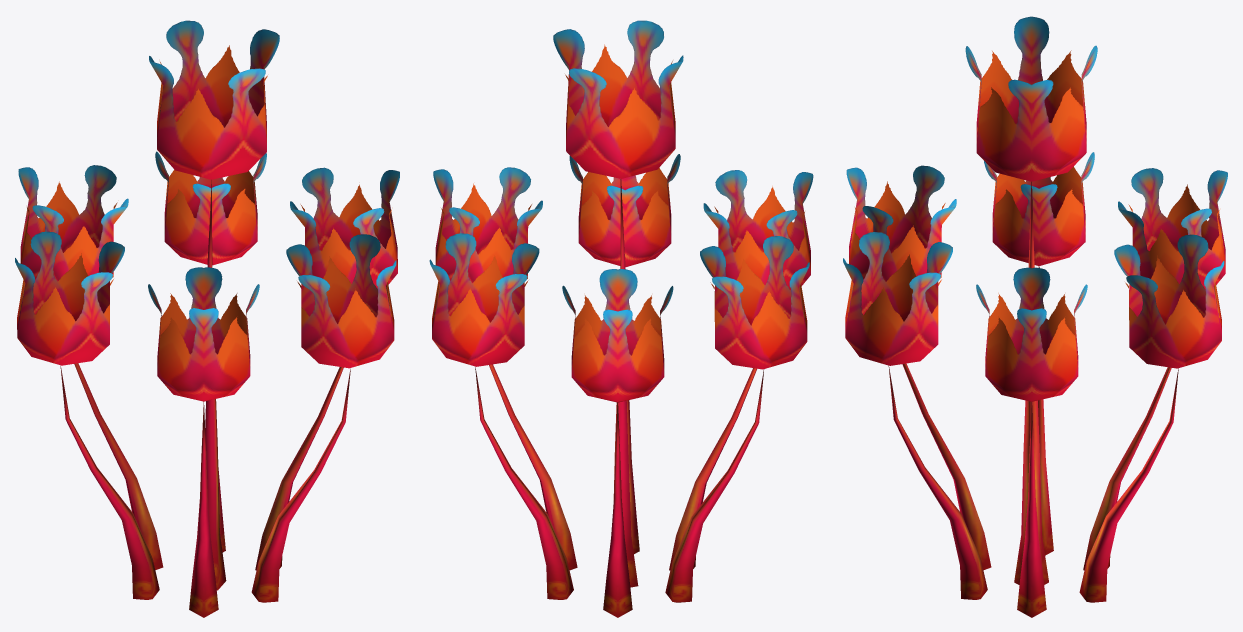
The model's file is RedFlower_03_Group3.FBX.
The picture shows the model from 3 angles, left to right: view 1: azimuth 30°, elevation 25°; view 2: azimuth 150°, elevation 25°; view 3: azimuth 270°, elevation 25°; orthographic projection.
Parts seen in each view (by area): view 1: RedFlower_03_Group3; view 2: RedFlower_03_Group3; view 3: RedFlower_03_Group3.
Part boxes in pixels (<box>): RedFlower_03_Group3: <box>15,20,399,617</box>; RedFlower_03_Group3: <box>429,20,813,617</box>; RedFlower_03_Group3: <box>843,16,1227,617</box>.
Bounding box in the file's own units: 113 × 155 × 99.14.
